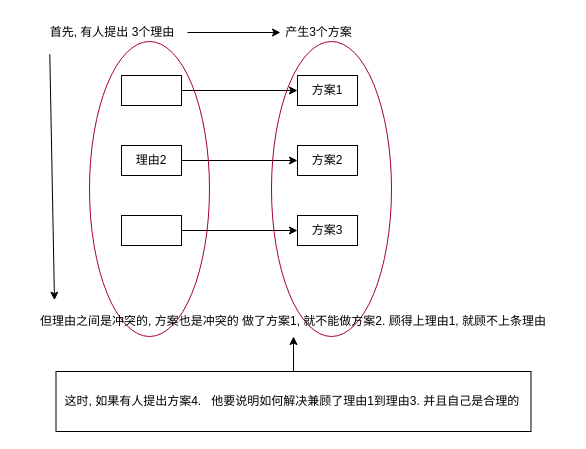
The diagram is 586 pixels wide and 449 high, and some of its shapes have lost their labels. Here are the shapes that lost their labels. From the top down, the centre of each, then its label:
the point at 151,90: 理由1
the point at 151,230: 理由3
